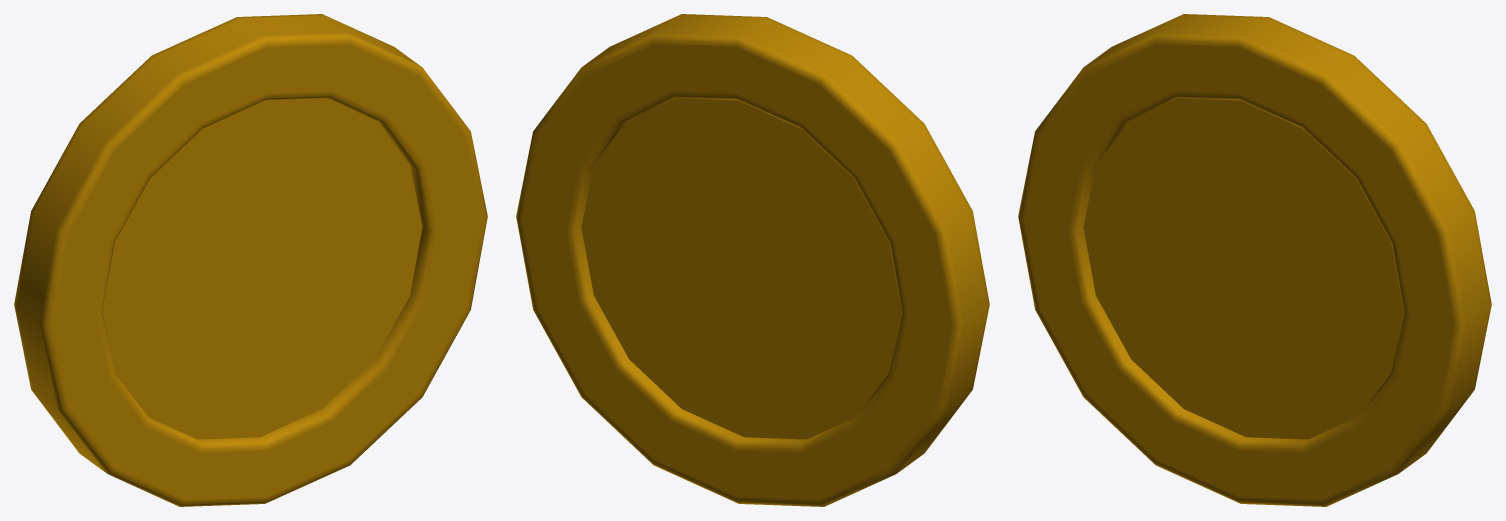
File: coin_01.fbx
3 renders of one model, left to right at view 1: azimuth 30°, elevation 25°; view 2: azimuth 150°, elevation 25°; view 3: azimuth 330°, elevation 25°, orthographic.
Parts seen in each view (by area): view 1: Cylinder; view 2: Cylinder; view 3: Cylinder.
Part boxes in pixels (box(x1,y1,x2,y2)): Cylinder: box(14, 14, 487, 506); Cylinder: box(516, 14, 989, 506); Cylinder: box(1018, 14, 1491, 506).
Size of the model in its own units: 600 by 600 by 75.
